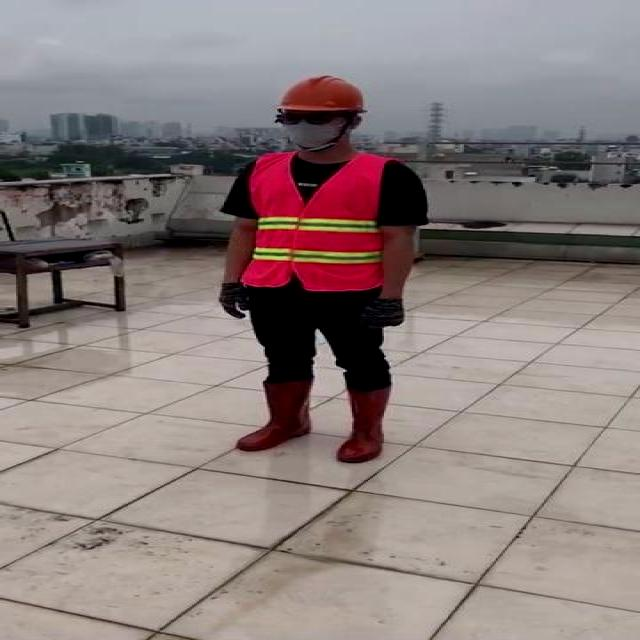boots: (329, 379, 407, 466), (233, 379, 315, 453)
face_mask: (277, 106, 343, 147)
glasses: (275, 108, 345, 128)
hand_glove: (361, 299, 403, 332), (213, 283, 251, 319)
head_helmet: (274, 72, 372, 115)
person: (206, 68, 439, 471)
vest: (236, 151, 384, 291)
